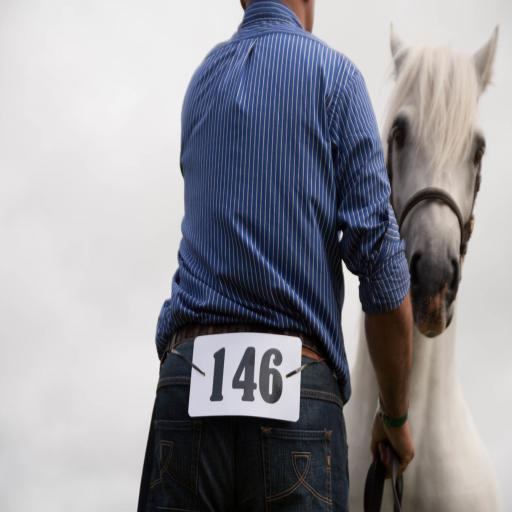Horse: (342, 18, 506, 512)
